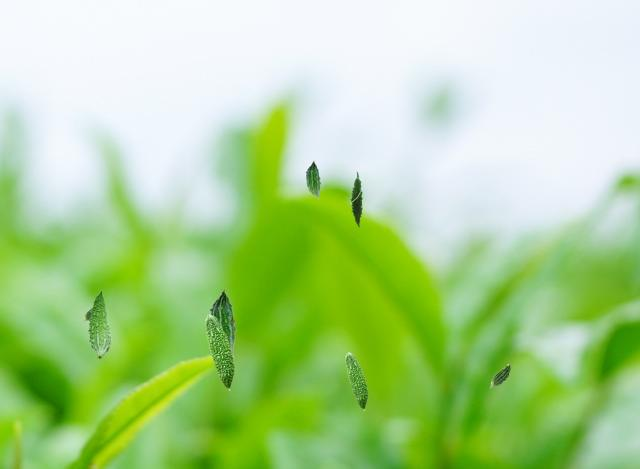ampalaya: (205, 314, 235, 392), (209, 288, 237, 358), (87, 289, 112, 359), (345, 351, 369, 411), (349, 171, 364, 228), (305, 160, 321, 199), (489, 363, 511, 388), (83, 308, 90, 322)
